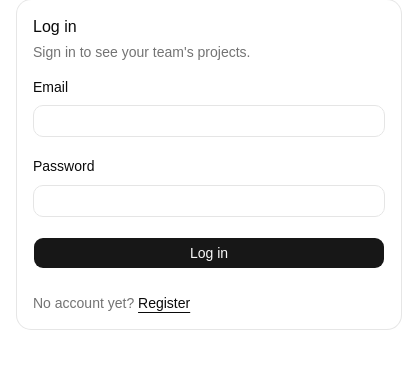
Test: LoginPage › shows a single message for rejected credentials and keeps the values
Type " ada@example.com " into the field labelled "Email" at (209, 121), box [33,105,385,137]
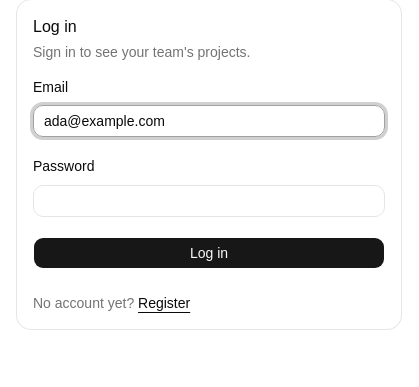
Type "correct horse" into the password field labelled "Password" at (209, 200), box [33,184,385,216]
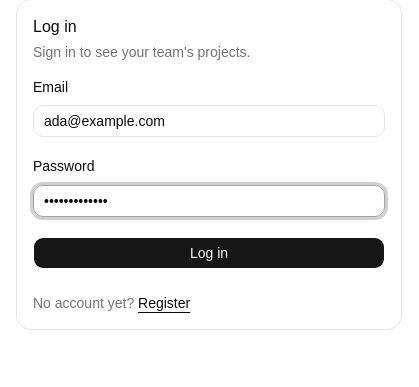
Click the button "Log in" at (209, 252), box [33,236,385,268]
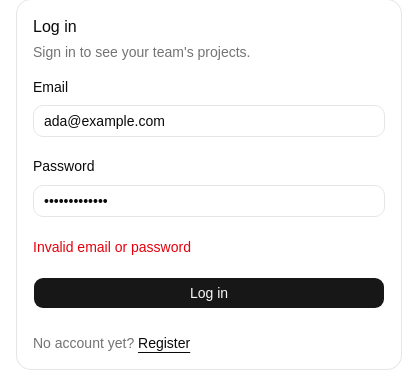
expect the text "Invalid email or password" is shown: met, box [33,238,191,254]
